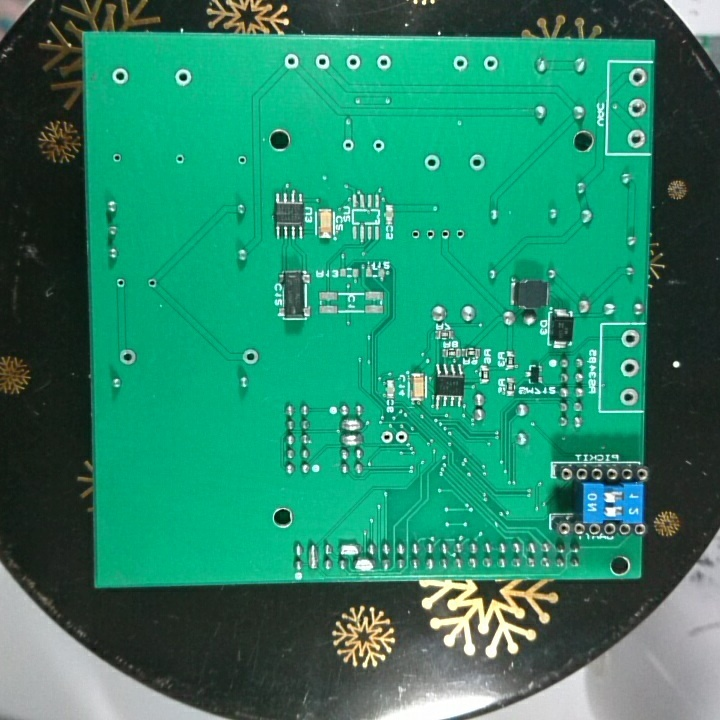F: (466, 149, 488, 175), (625, 126, 647, 152), (625, 66, 649, 89), (625, 96, 649, 119), (239, 346, 262, 369), (278, 51, 302, 72), (619, 328, 640, 351), (618, 385, 639, 408), (173, 66, 194, 89), (450, 52, 471, 74), (110, 65, 131, 86), (374, 52, 394, 73), (116, 348, 138, 367), (481, 53, 500, 75), (619, 358, 639, 378), (422, 152, 442, 172), (344, 52, 363, 73), (313, 53, 333, 72), (142, 275, 159, 294), (339, 138, 358, 154), (112, 275, 128, 292), (379, 429, 395, 445), (394, 429, 410, 445), (453, 226, 468, 243), (371, 137, 386, 154), (172, 151, 187, 166), (110, 151, 124, 167), (234, 152, 248, 166), (424, 226, 435, 242), (410, 227, 421, 243), (439, 228, 451, 242)
P: (307, 540, 322, 572), (338, 416, 363, 433), (351, 557, 376, 574), (339, 433, 365, 449), (337, 541, 361, 558)
